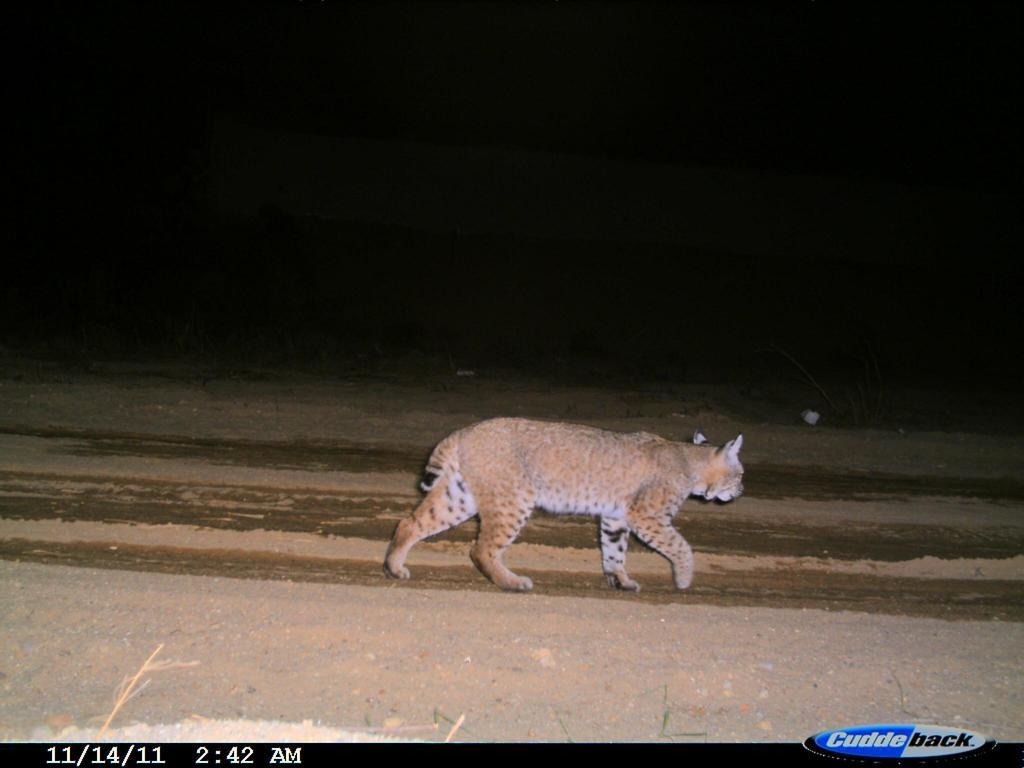bobcat: (386, 414, 752, 601)
